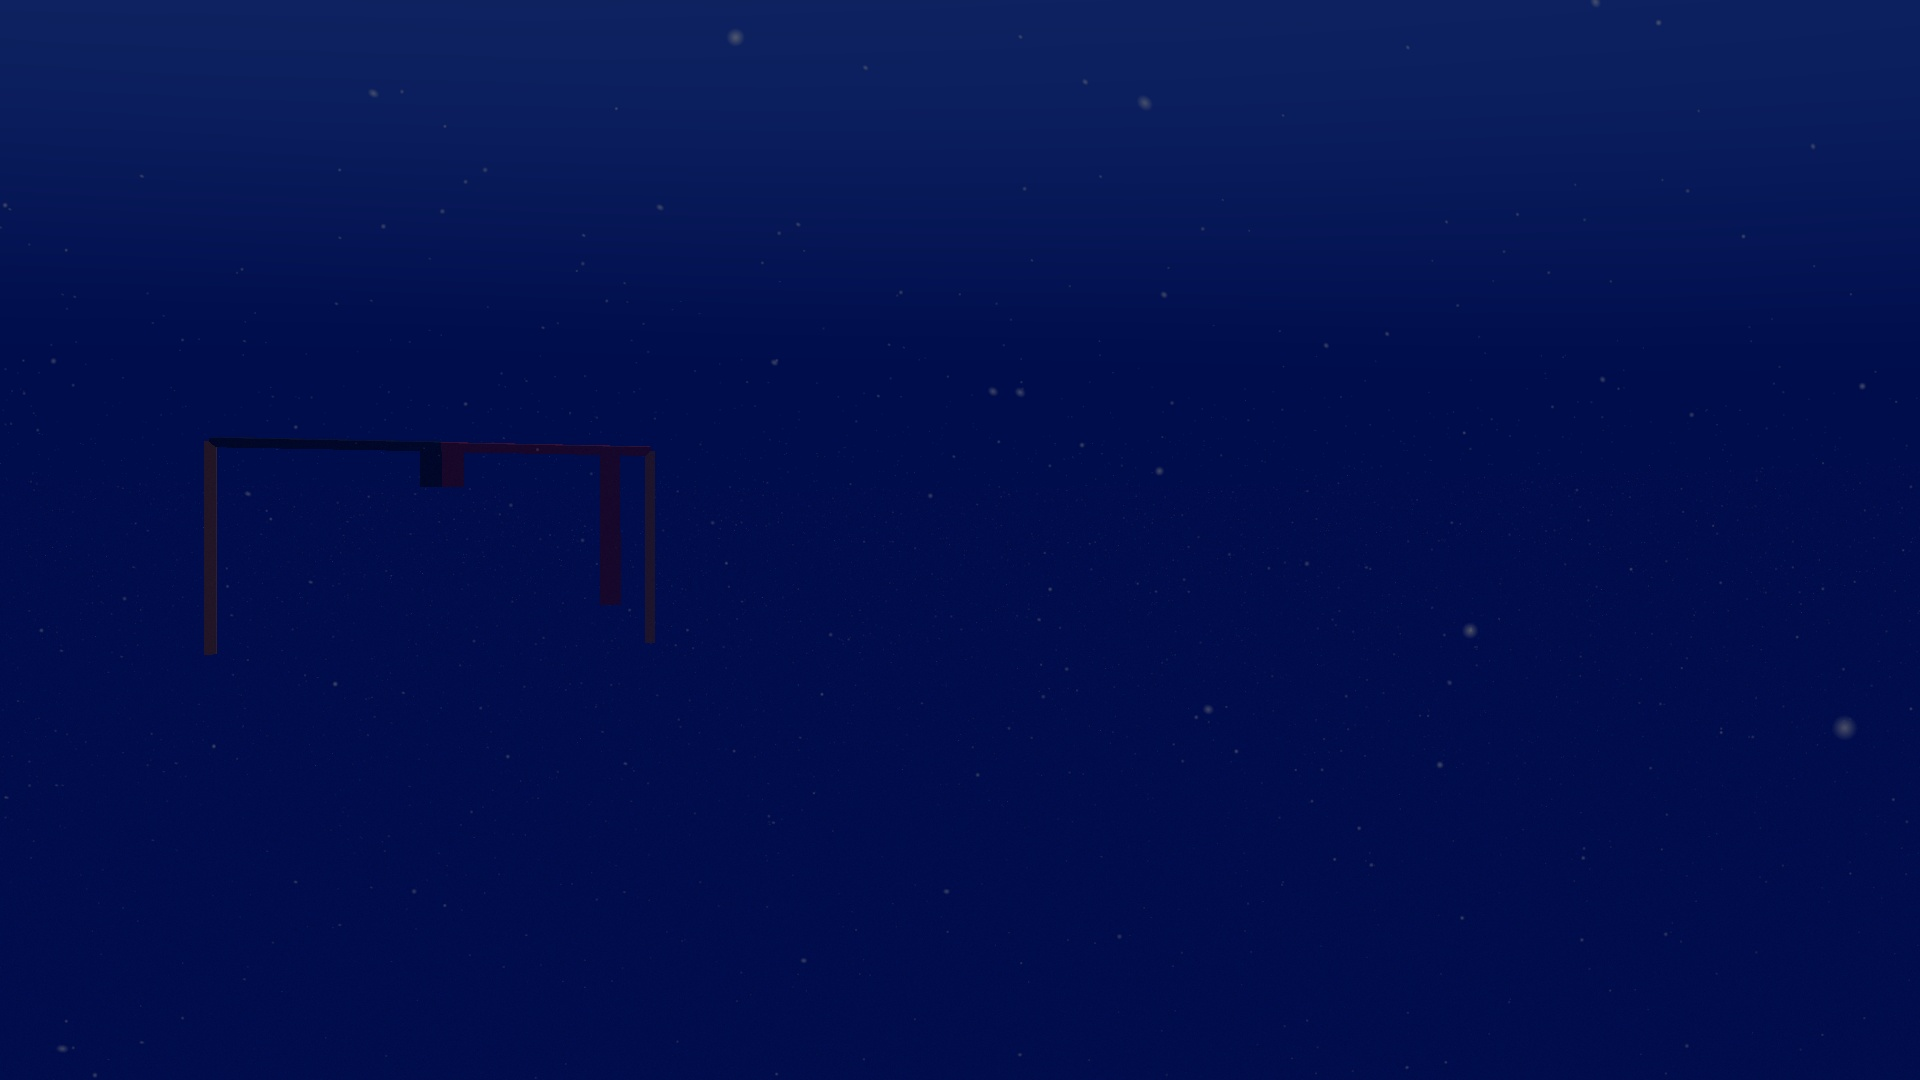Gate: (194, 427, 665, 663)
